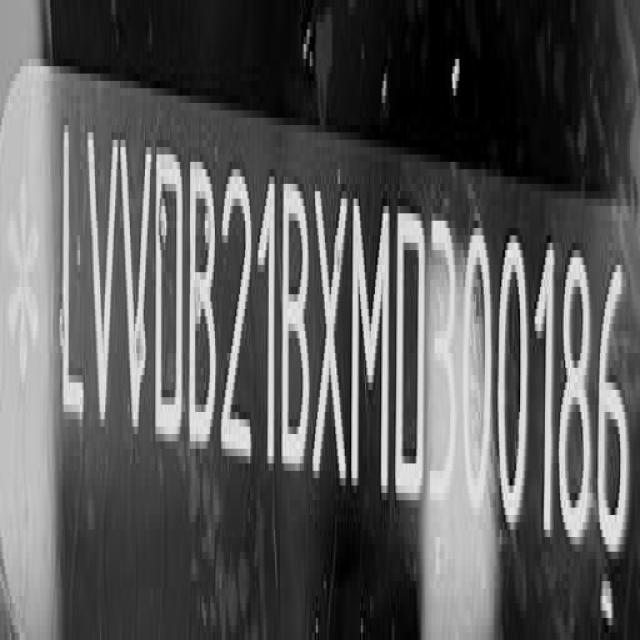0: (499, 230, 530, 534), (461, 227, 492, 525)
1: (533, 236, 555, 538), (258, 173, 278, 479)
2: (222, 167, 254, 473)
5: (432, 210, 460, 517)
6: (600, 257, 632, 564)
8: (559, 246, 592, 549)
B: (283, 178, 314, 484), (190, 158, 220, 462)
D: (397, 210, 429, 513), (154, 146, 184, 456)
L: (58, 124, 86, 437)
M: (351, 193, 390, 509)
V: (87, 124, 119, 439), (120, 134, 152, 444)
X: (314, 185, 347, 498)
